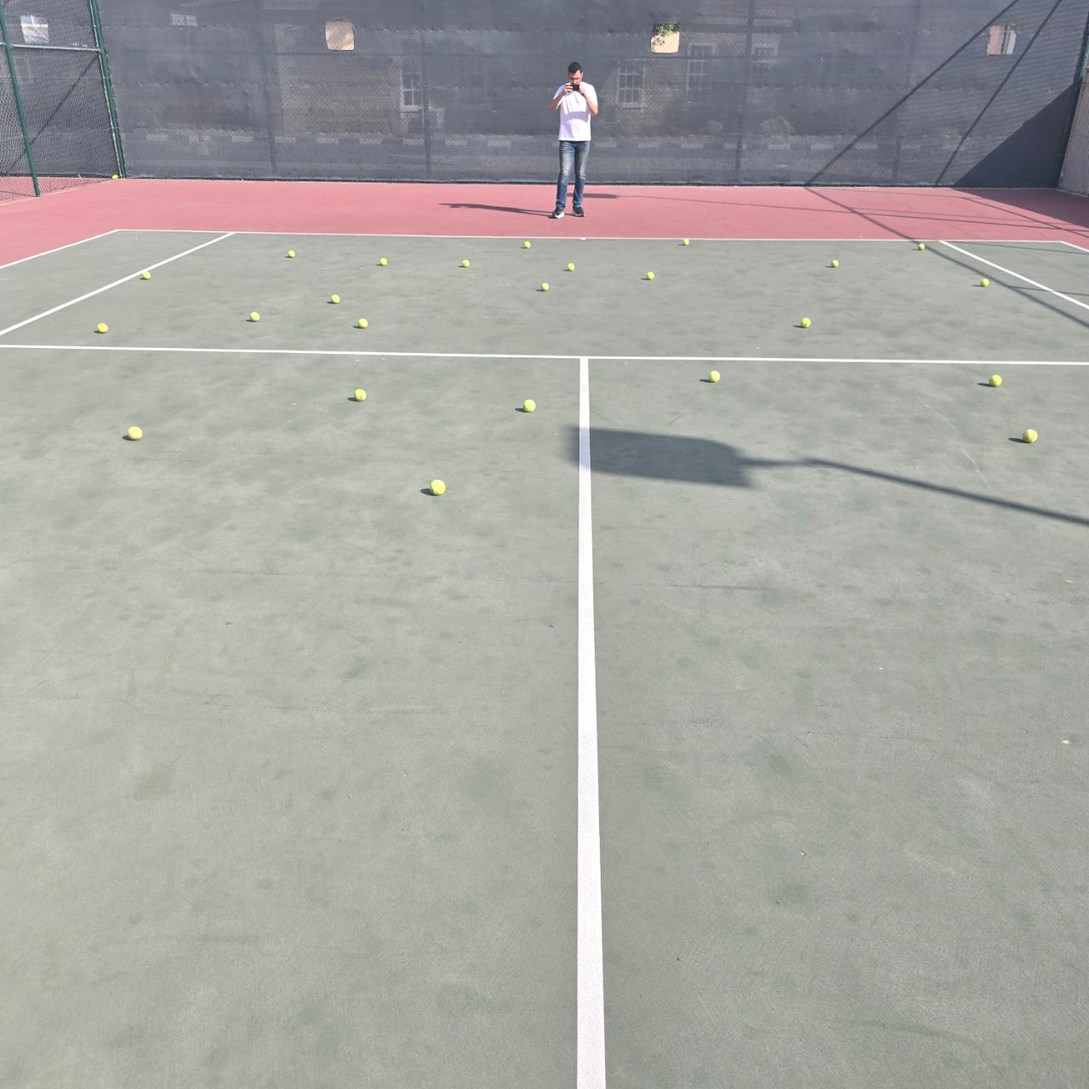tennis-ball: (124, 423, 143, 440), (429, 476, 446, 495), (522, 396, 536, 412), (353, 386, 367, 401), (1023, 429, 1037, 443), (708, 370, 720, 383), (989, 374, 1001, 386), (800, 317, 811, 328), (97, 323, 108, 333), (358, 318, 368, 329), (250, 312, 260, 322), (331, 294, 341, 304), (142, 271, 151, 280), (646, 271, 655, 280), (830, 259, 839, 268), (980, 278, 989, 287), (380, 257, 388, 266), (462, 259, 470, 268), (541, 282, 549, 291), (567, 263, 575, 271), (682, 238, 690, 246), (288, 249, 295, 258), (524, 241, 531, 249), (918, 242, 925, 250), (111, 174, 118, 180)
